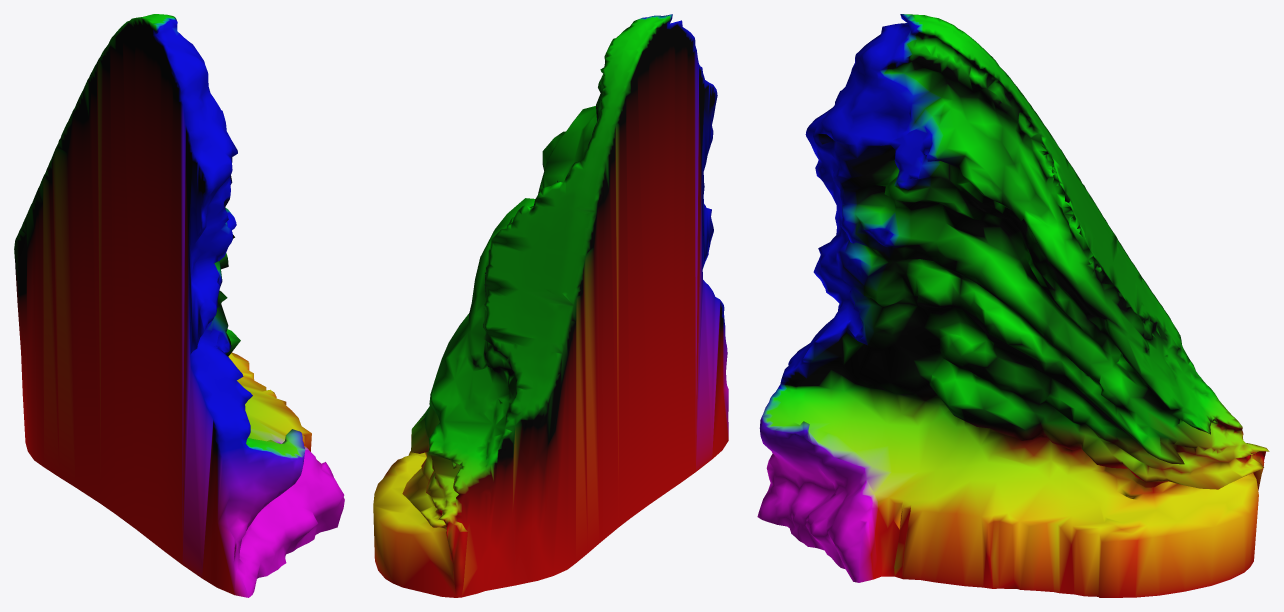
The model's file is desert-end-right.glb.
The picture shows the model from 3 angles, left to right: view 1: azimuth 30°, elevation 25°; view 2: azimuth 150°, elevation 25°; view 3: azimuth 270°, elevation 25°; orthographic projection. The views are drawn at different scales.
Parts seen in each view (by area): view 1: desert-end-right_lod0; view 2: desert-end-right_lod0; view 3: desert-end-right_lod0.
Part boxes in pixels (x1,y1,x2,y2): desert-end-right_lod0: (14,14,344,597); desert-end-right_lod0: (373,14,728,597); desert-end-right_lod0: (757,14,1269,597).
Size of what is drawn, in the model's own units: 9.08 by 22.38 by 20.95.
